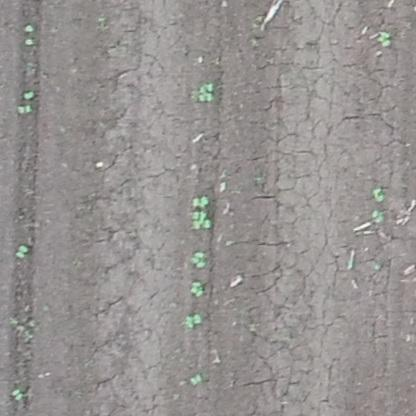vc: (195, 79, 215, 103), (183, 309, 203, 328), (191, 211, 211, 228), (190, 249, 206, 270), (189, 278, 204, 297), (376, 30, 391, 47), (371, 187, 388, 202), (15, 242, 30, 258), (372, 208, 386, 224), (190, 196, 210, 207), (11, 388, 25, 402), (189, 372, 202, 385), (22, 88, 36, 99), (16, 104, 31, 114), (23, 23, 34, 32), (24, 38, 33, 45)
